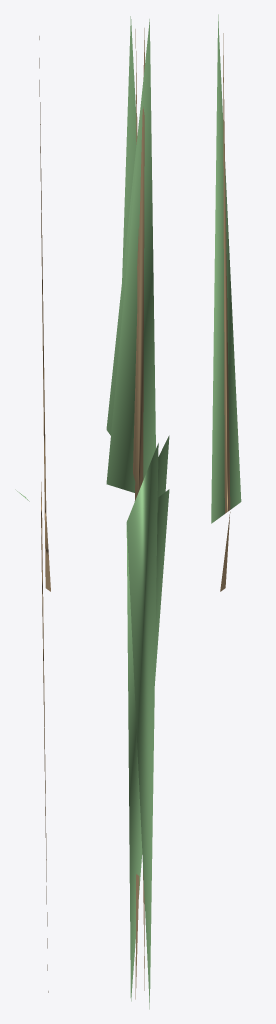
File: equip_weapon_adamant_axe.glb
3 views of the same model, side by side, from view 1: azimuth 30°, elevation 25°; view 2: azimuth 150°, elevation 25°; view 3: azimuth 330°, elevation 25° (orthographic).
Visible parts, largest first — view 1: equip_weapon_adamant_axe; view 2: equip_weapon_adamant_axe; view 3: equip_weapon_adamant_axe.
Part boxes in pixels (bbox=[...]): equip_weapon_adamant_axe: bbox=[15, 36, 50, 992]; equip_weapon_adamant_axe: bbox=[106, 16, 169, 1009]; equip_weapon_adamant_axe: bbox=[211, 14, 241, 591].
Size of the model in its own units: 0.11 by 2 by 0.11.
